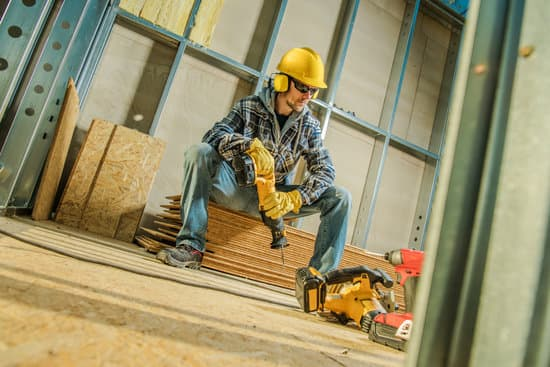hard hat: (279, 44, 329, 89)
